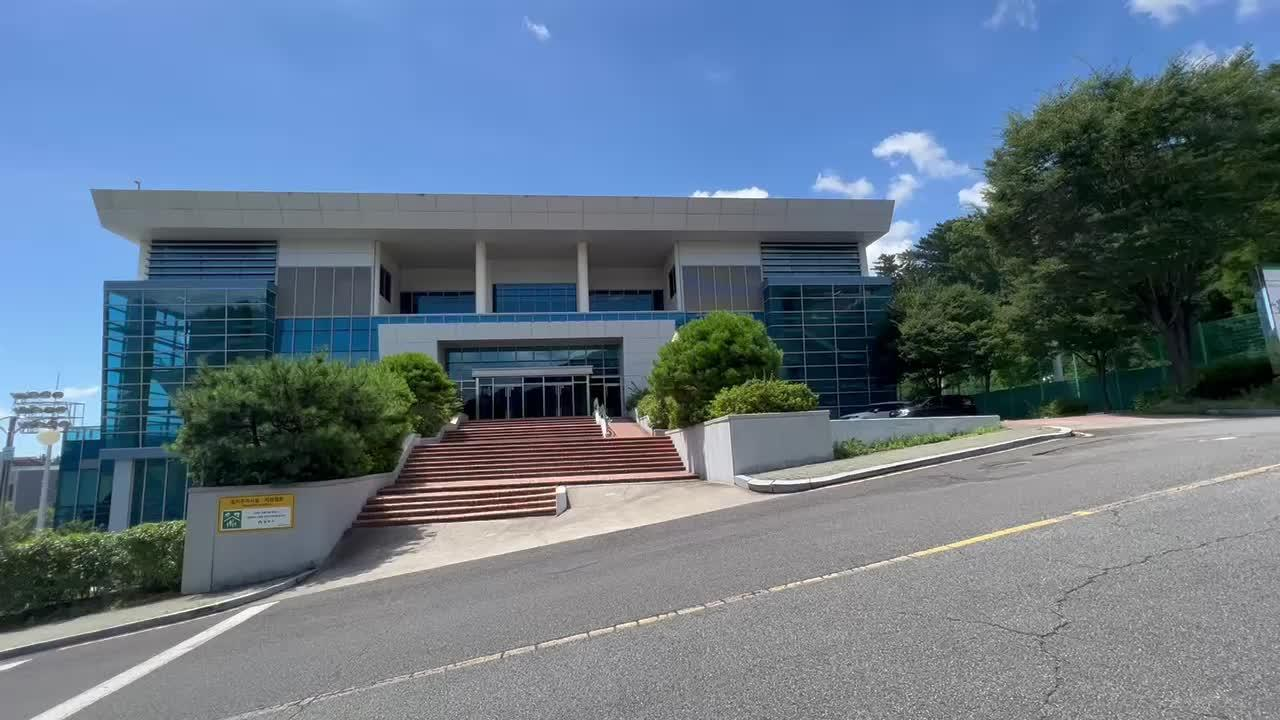building: (50, 159, 894, 481)
